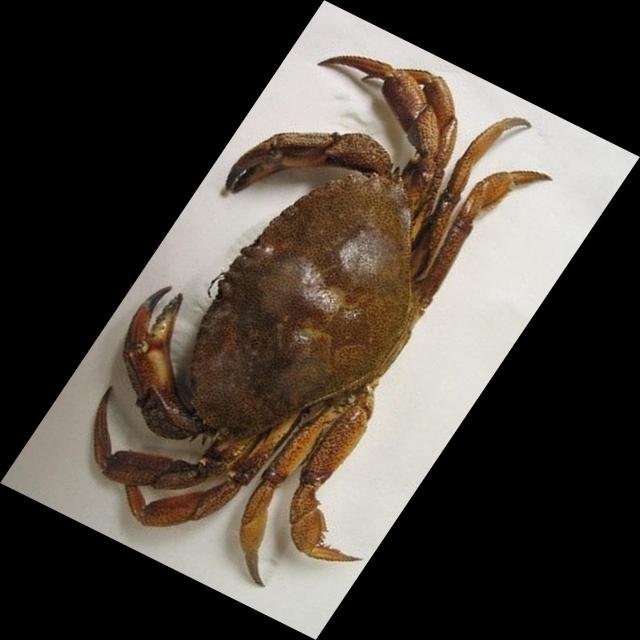Native Rock crab: (93, 55, 551, 586)
